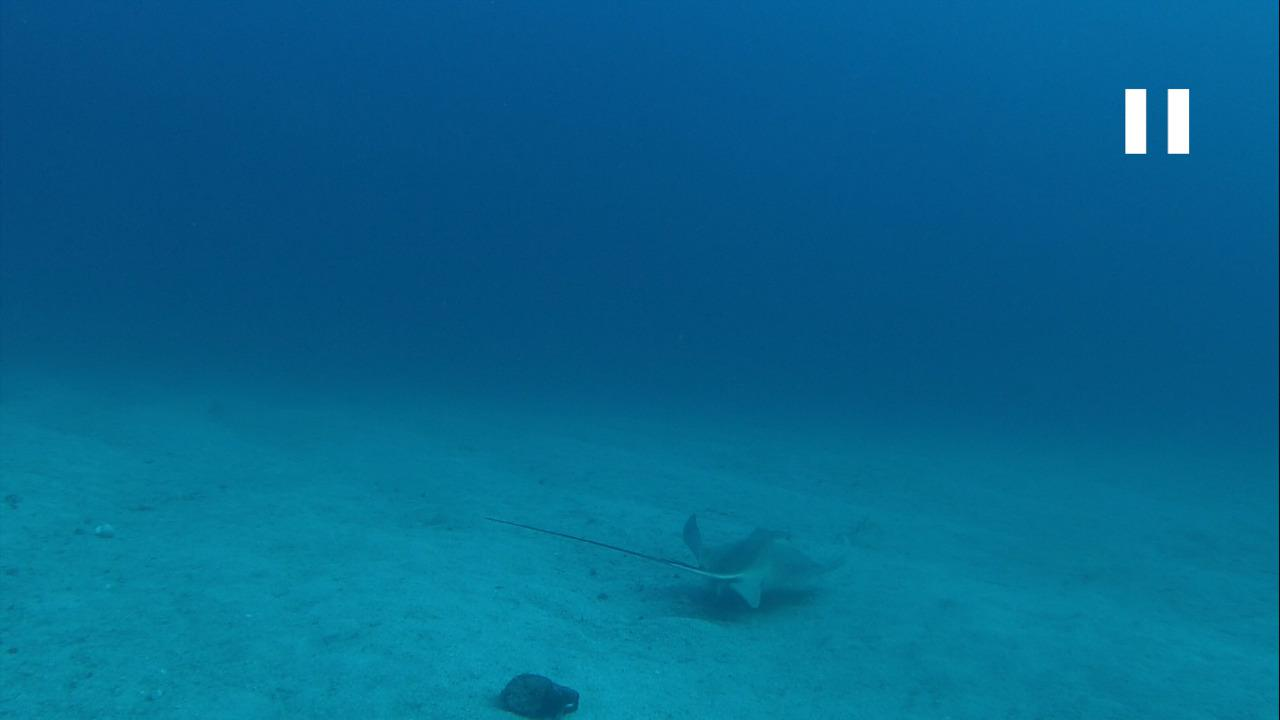myliobatis: (469, 495, 865, 617)
